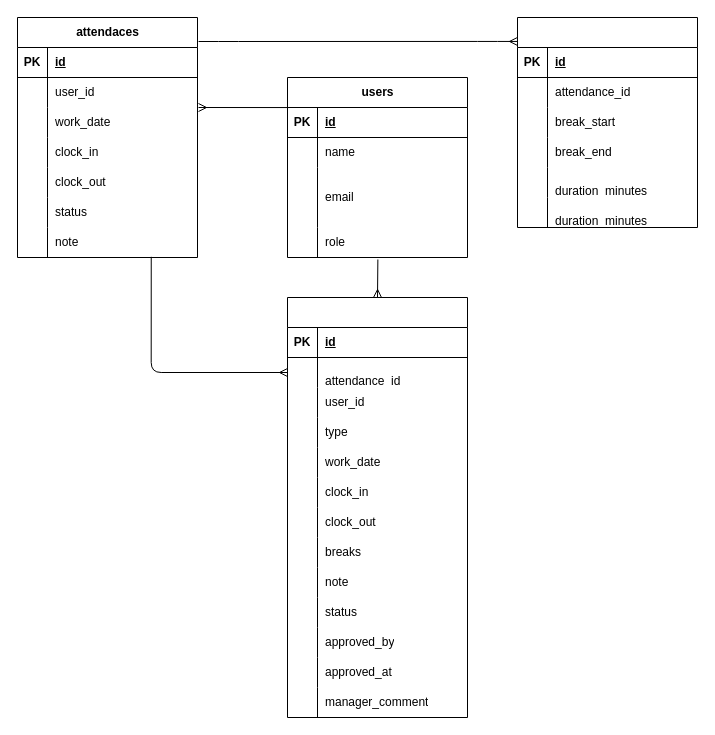
Image size: 715x735. Some labels were removed from this diagram. Here are the shapes that lost their labels. From the top down, the box of each, then its label:
(516, 16, 698, 228): Attendance_breaks
(286, 296, 468, 718): attendance_applications
